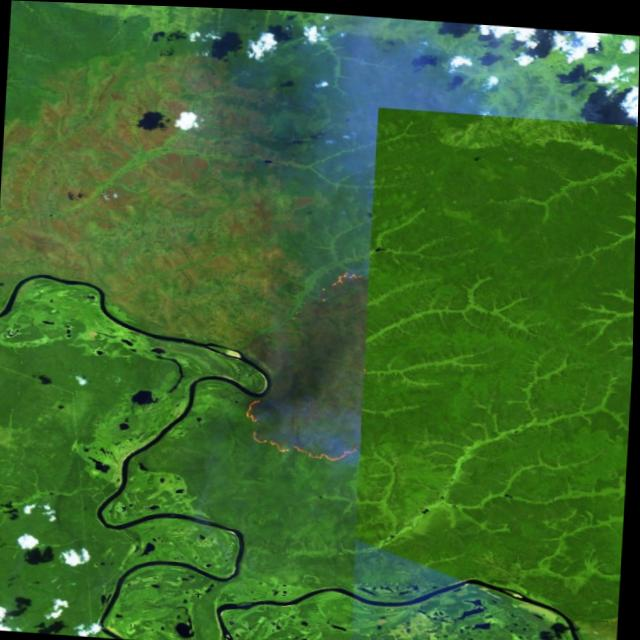fire: (234, 386, 368, 468), (287, 259, 368, 324)
